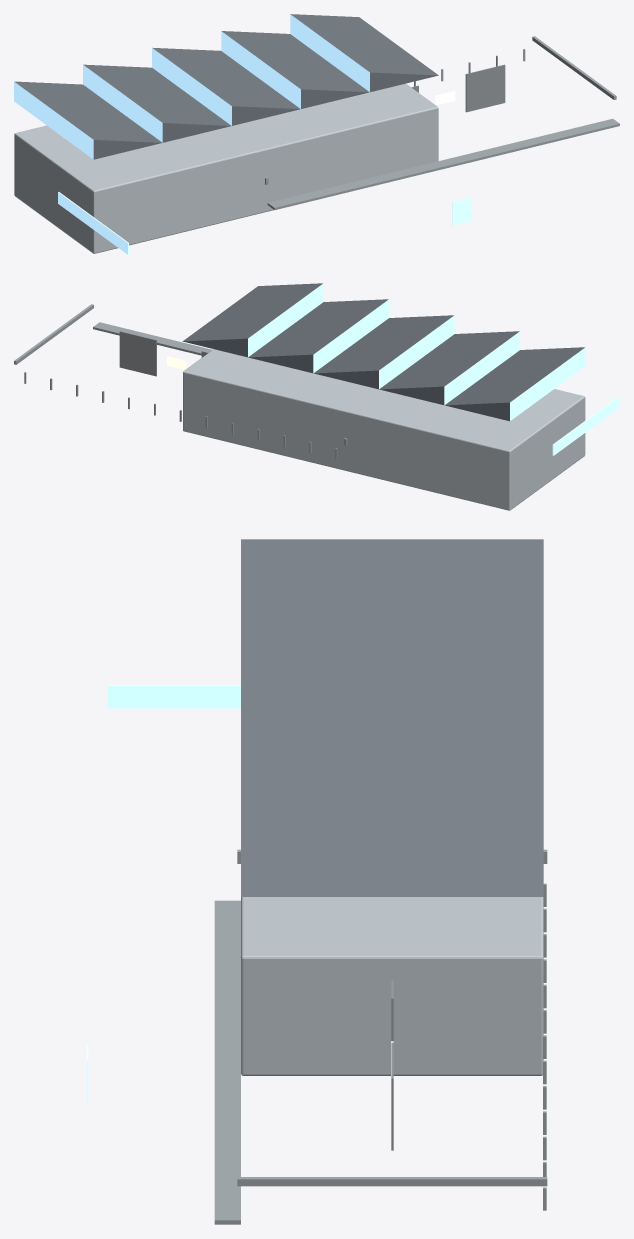
The model's file is warehouse.glb.
3 views of the same model, one above another, from view 1: azimuth 30°, elevation 25°; view 2: azimuth 150°, elevation 25°; view 3: azimuth 270°, elevation 25° (orthographic). The views are drawn at different scales.
Visible parts, largest first — view 1: wall_panel, mixed, trim_metal, door_shutter, glass_cool; view 2: wall_panel, mixed, trim_metal, door_shutter, glass_cool; view 3: mixed, wall_panel, trim_metal, glass_cool.
Boxes of the visible parts, <box> form: wall_panel: <box>14,83,438,253</box>; mixed: <box>14,14,438,159</box>; trim_metal: <box>265,36,619,209</box>; door_shutter: <box>411,64,505,112</box>; glass_cool: <box>58,192,471,254</box>; wall_panel: <box>183,349,585,510</box>; mixed: <box>182,283,585,421</box>; trim_metal: <box>14,304,347,459</box>; door_shutter: <box>119,331,208,376</box>; glass_cool: <box>552,396,619,455</box>; mixed: <box>241,539,543,896</box>; wall_panel: <box>241,897,543,1075</box>; trim_metal: <box>214,849,547,1224</box>; glass_cool: <box>86,685,240,1105</box>.
Size of the model in its own units: 60.57 by 14.8 by 24.37.
